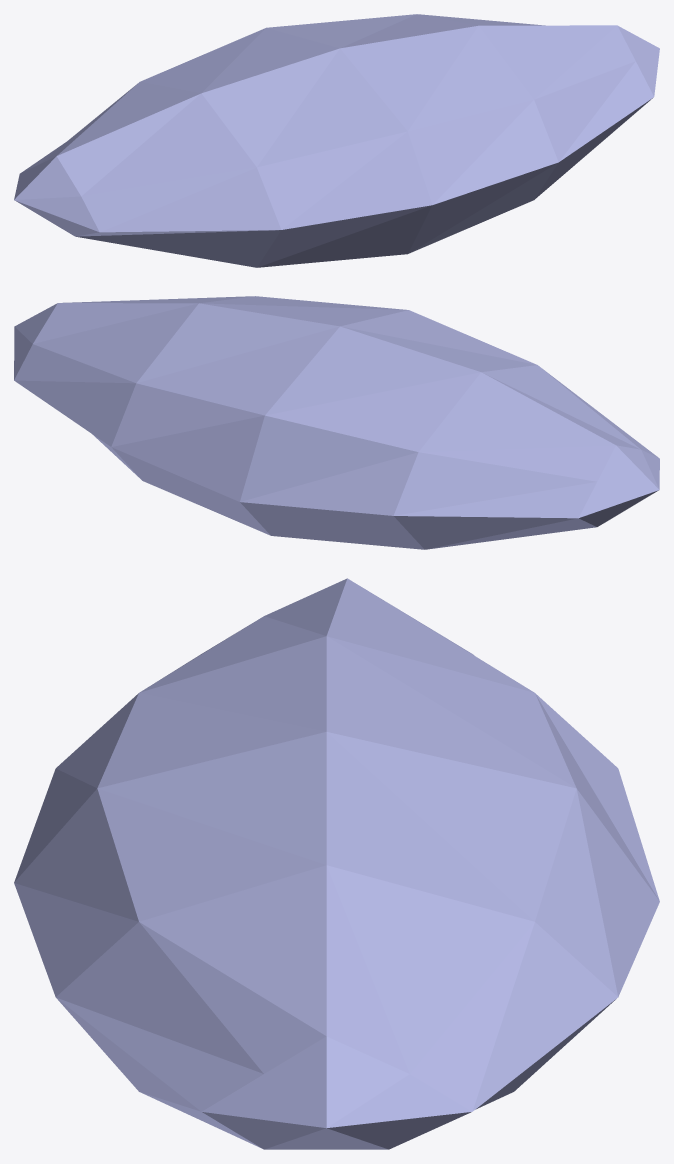
The model's file is gfx_238.obj.
3 renders of one model, top to bottom at view 1: azimuth 30°, elevation 25°; view 2: azimuth 150°, elevation 25°; view 3: azimuth 270°, elevation 25°, orthographic. The views are drawn at different scales.
Size of the model in its own units: 0.4688 by 0.1094 by 0.2422.
